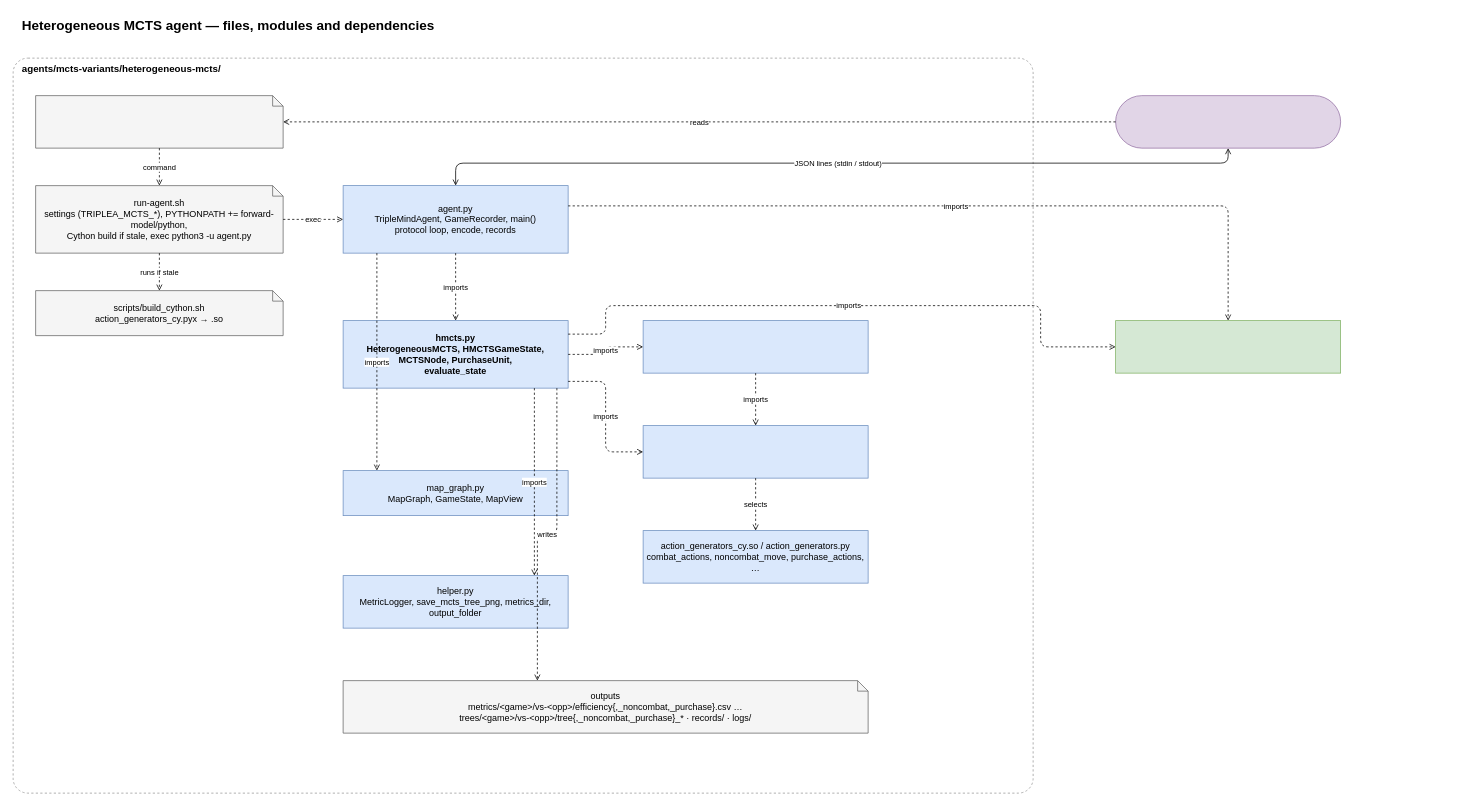
Image size: 1474x806. Some labels were removed from this diagram. The centre of each missing label's shape, as x and y in pixels:
"agent.json manifest: id heterogeneous-mcts, command = bash run-agent.sh" goes at point (159, 121).
"forward-model/python/triplea_fm load_definition, LiveBridge, apply_in_place, …" goes at point (1228, 346).
"generators.py ag = action_generators_cy (Cython) else action_generators" goes at point (755, 451).
"noncombat_generators.py land_air_moves, noncombat_actions, positioning_moves" goes at point (755, 346).
"Testbench engine (ExternalAgentPlayer / tools/arena.py)" goes at point (1228, 121).
